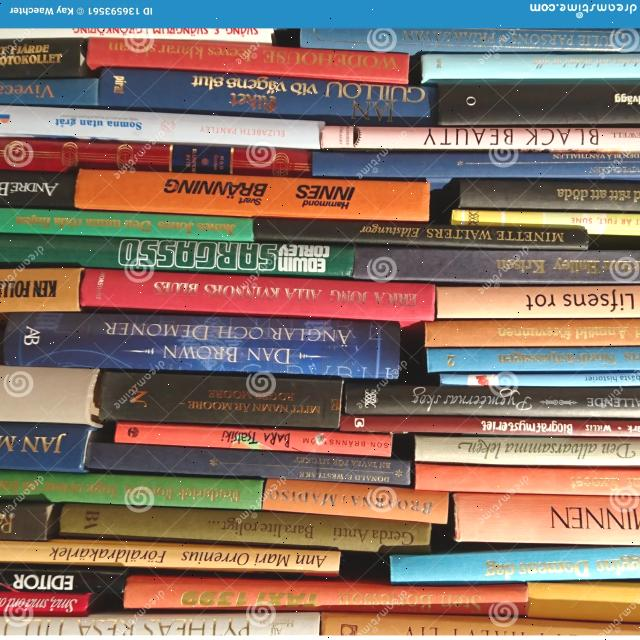book: (6, 311, 395, 377), (79, 165, 430, 220), (83, 270, 434, 320), (99, 68, 427, 119), (2, 232, 352, 277), (61, 509, 424, 551), (87, 38, 408, 85), (79, 444, 407, 486), (99, 372, 336, 427), (0, 105, 318, 145), (360, 247, 640, 285), (0, 543, 339, 574), (0, 142, 309, 173), (406, 433, 640, 472), (256, 220, 591, 247), (456, 495, 640, 544), (386, 545, 640, 580), (308, 26, 640, 52), (2, 477, 259, 509), (259, 479, 445, 522), (441, 87, 640, 127), (411, 461, 640, 495), (330, 128, 640, 152), (301, 581, 531, 613), (429, 286, 640, 319), (311, 154, 640, 175), (326, 615, 637, 637), (0, 614, 254, 638), (451, 209, 640, 234)
